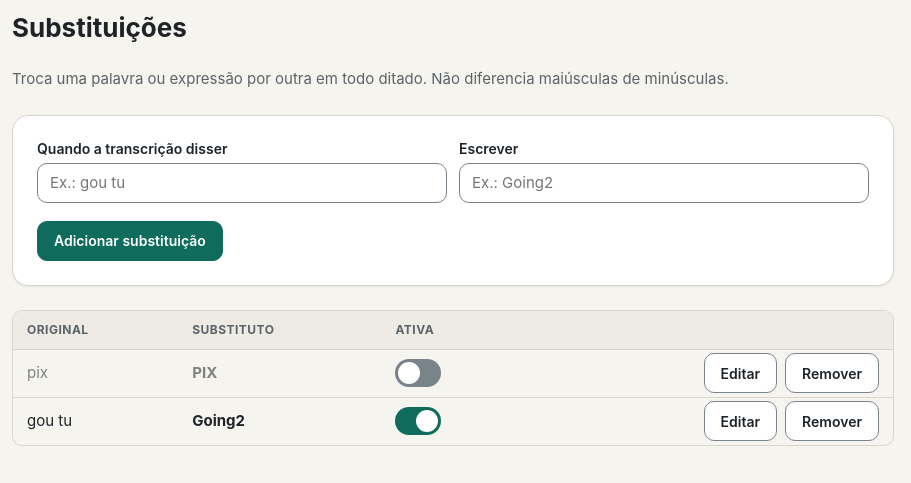
Test case: Substituições (F-08) › duplicada sem diferenciar maiúsculas é recusada
In the field labelled "Quando a transcrição disser": (242, 183) [37, 163, 447, 203], type "GOU TU"
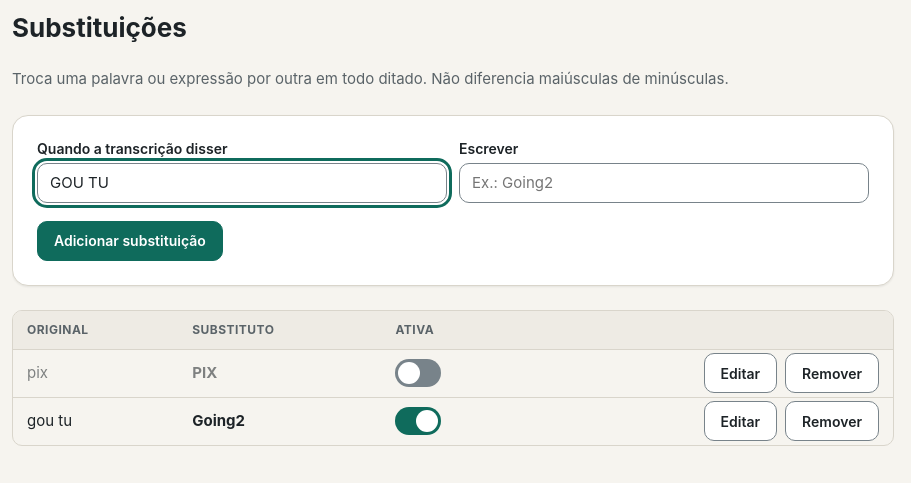
In the field labelled "Escrever": (664, 183) [459, 163, 869, 203], type "outro"
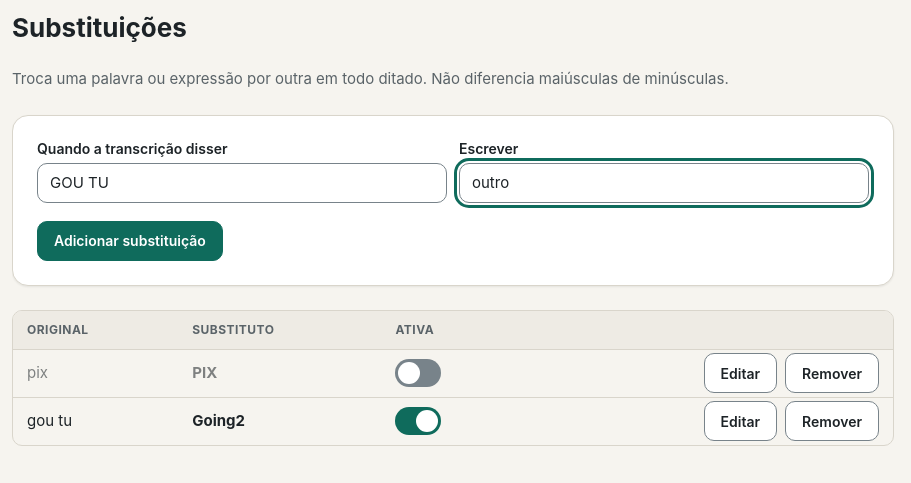
Click the button "Adicionar substituição": (130, 241) [37, 221, 223, 261]
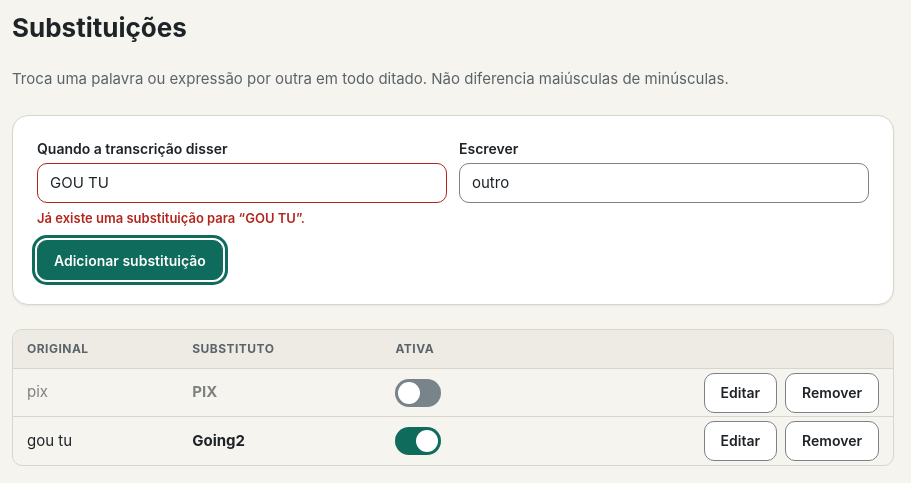
Now the text "Já existe uma substituição para “GOU TU”." is shown, box [37, 210, 305, 226]
